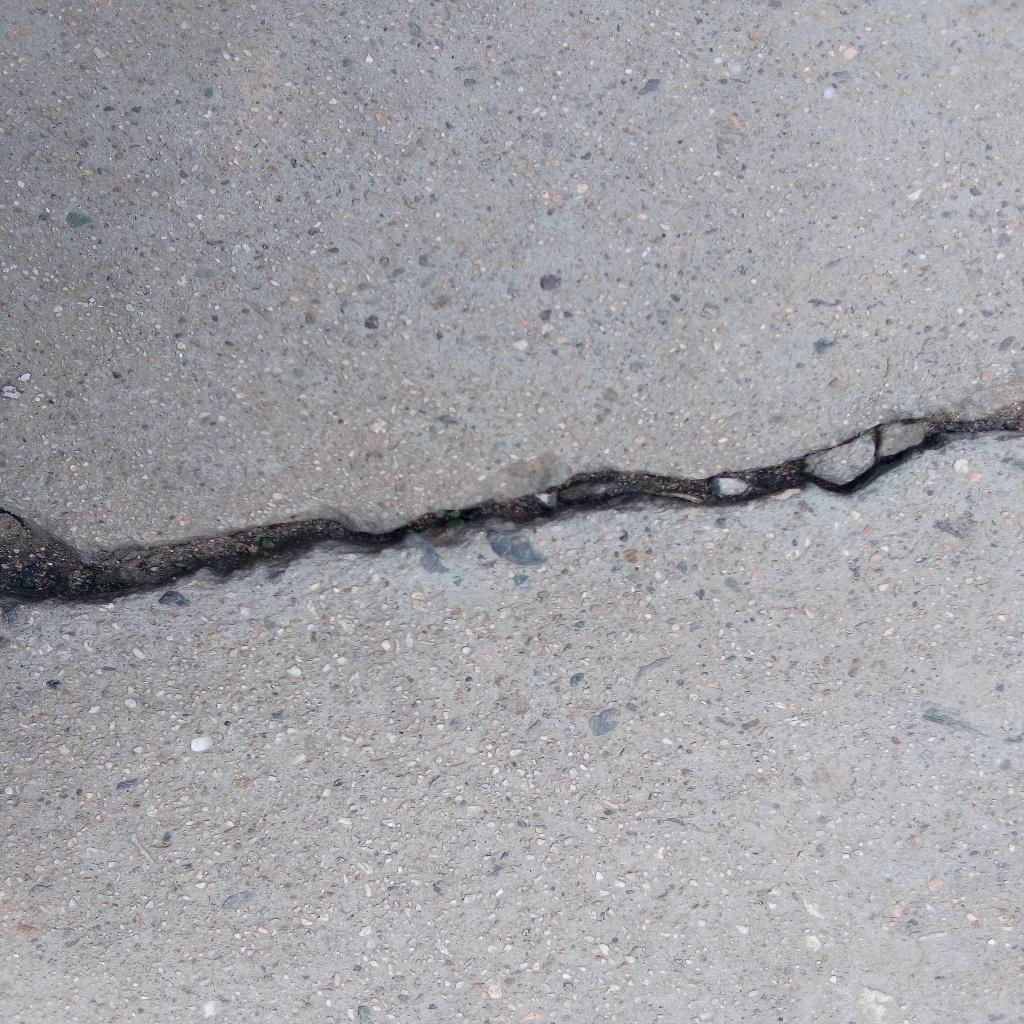Crack: (1, 401, 1024, 610)
